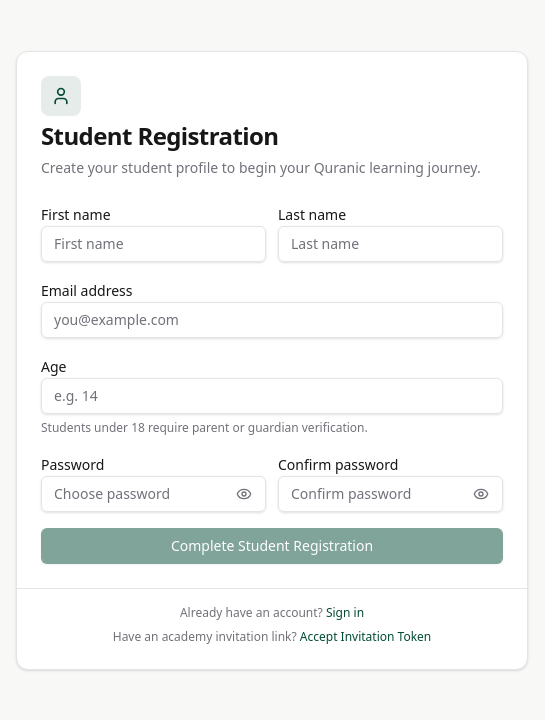
RegisterPage › conditionally reveals Parent / Guardian Email when age is under 18
This screenshot has width=545, height=720.
In the field labelled "Age": [272, 396] box [41,378,503,414], type "15"
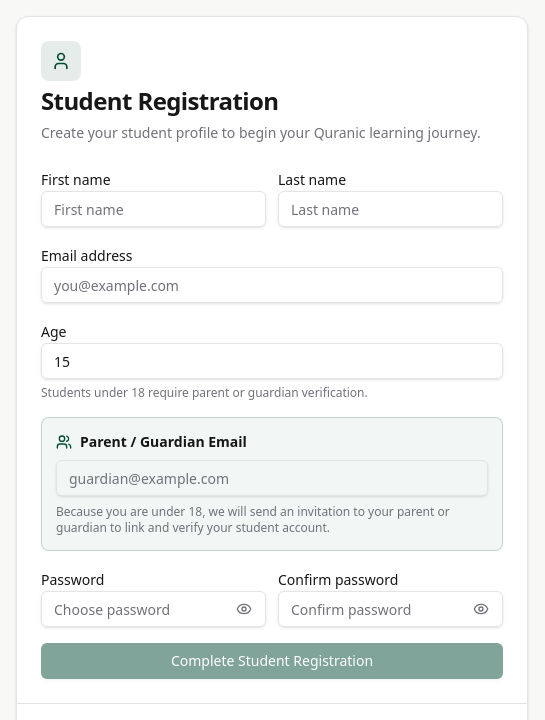
Now the field labelled "Parent / Guardian Email" is shown, box [56,460,488,496]
# If age changed to 18 or above, parent email field is hidden
Replace the text in the field labelled "Age" with "18": [272, 361] box [41,343,503,379]
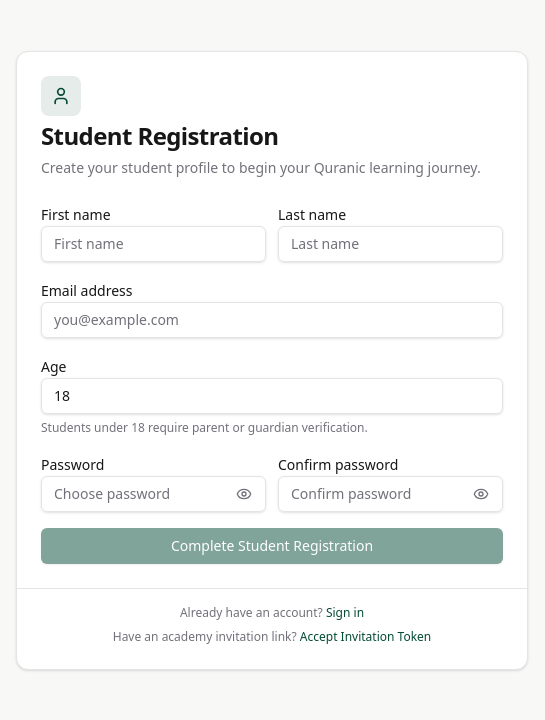
Now the label labelled "Parent / Guardian Email" is gone
